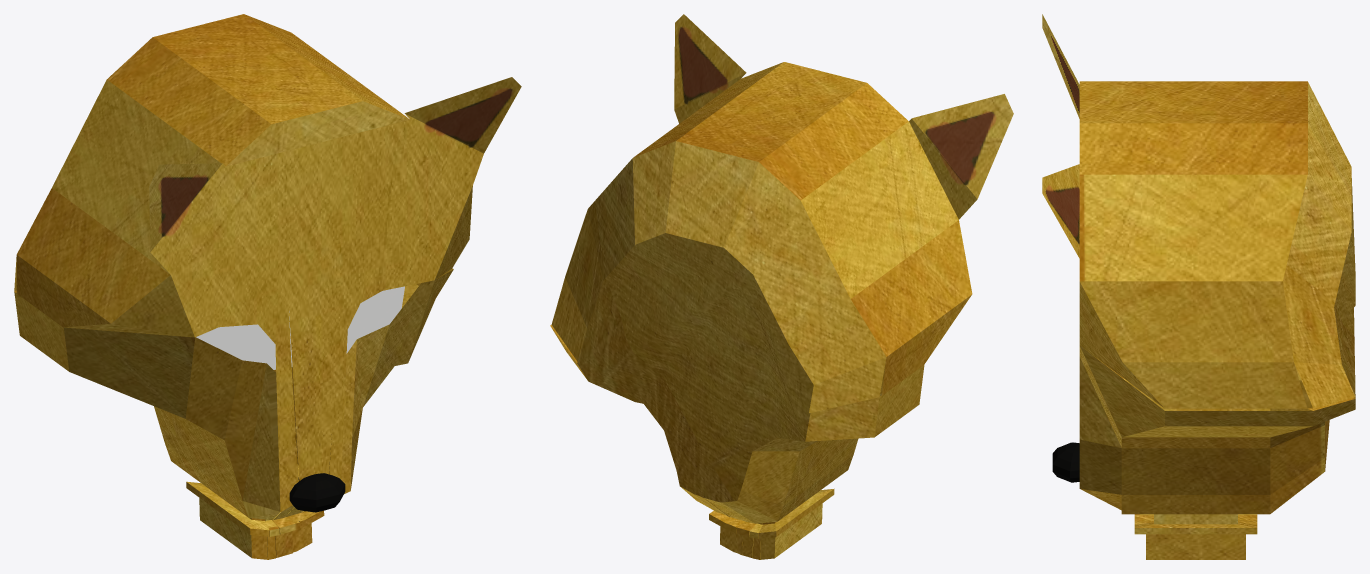
File: wolfHelmet.fbx
The picture shows the model from 3 angles, left to right: view 1: azimuth 30°, elevation 25°; view 2: azimuth 150°, elevation 25°; view 3: azimuth 270°, elevation 25°; orthographic projection. The views are drawn at different scales.
Visible parts, largest first — view 1: WolfHelmet; view 2: WolfHelmet; view 3: WolfHelmet.
Boxes of the visible parts, x1,y1,x2,y2 form: WolfHelmet: (14, 14, 521, 559); WolfHelmet: (550, 14, 1013, 559); WolfHelmet: (1042, 14, 1355, 559).
Bounding box in the file's own units: 154 × 188 × 117.
